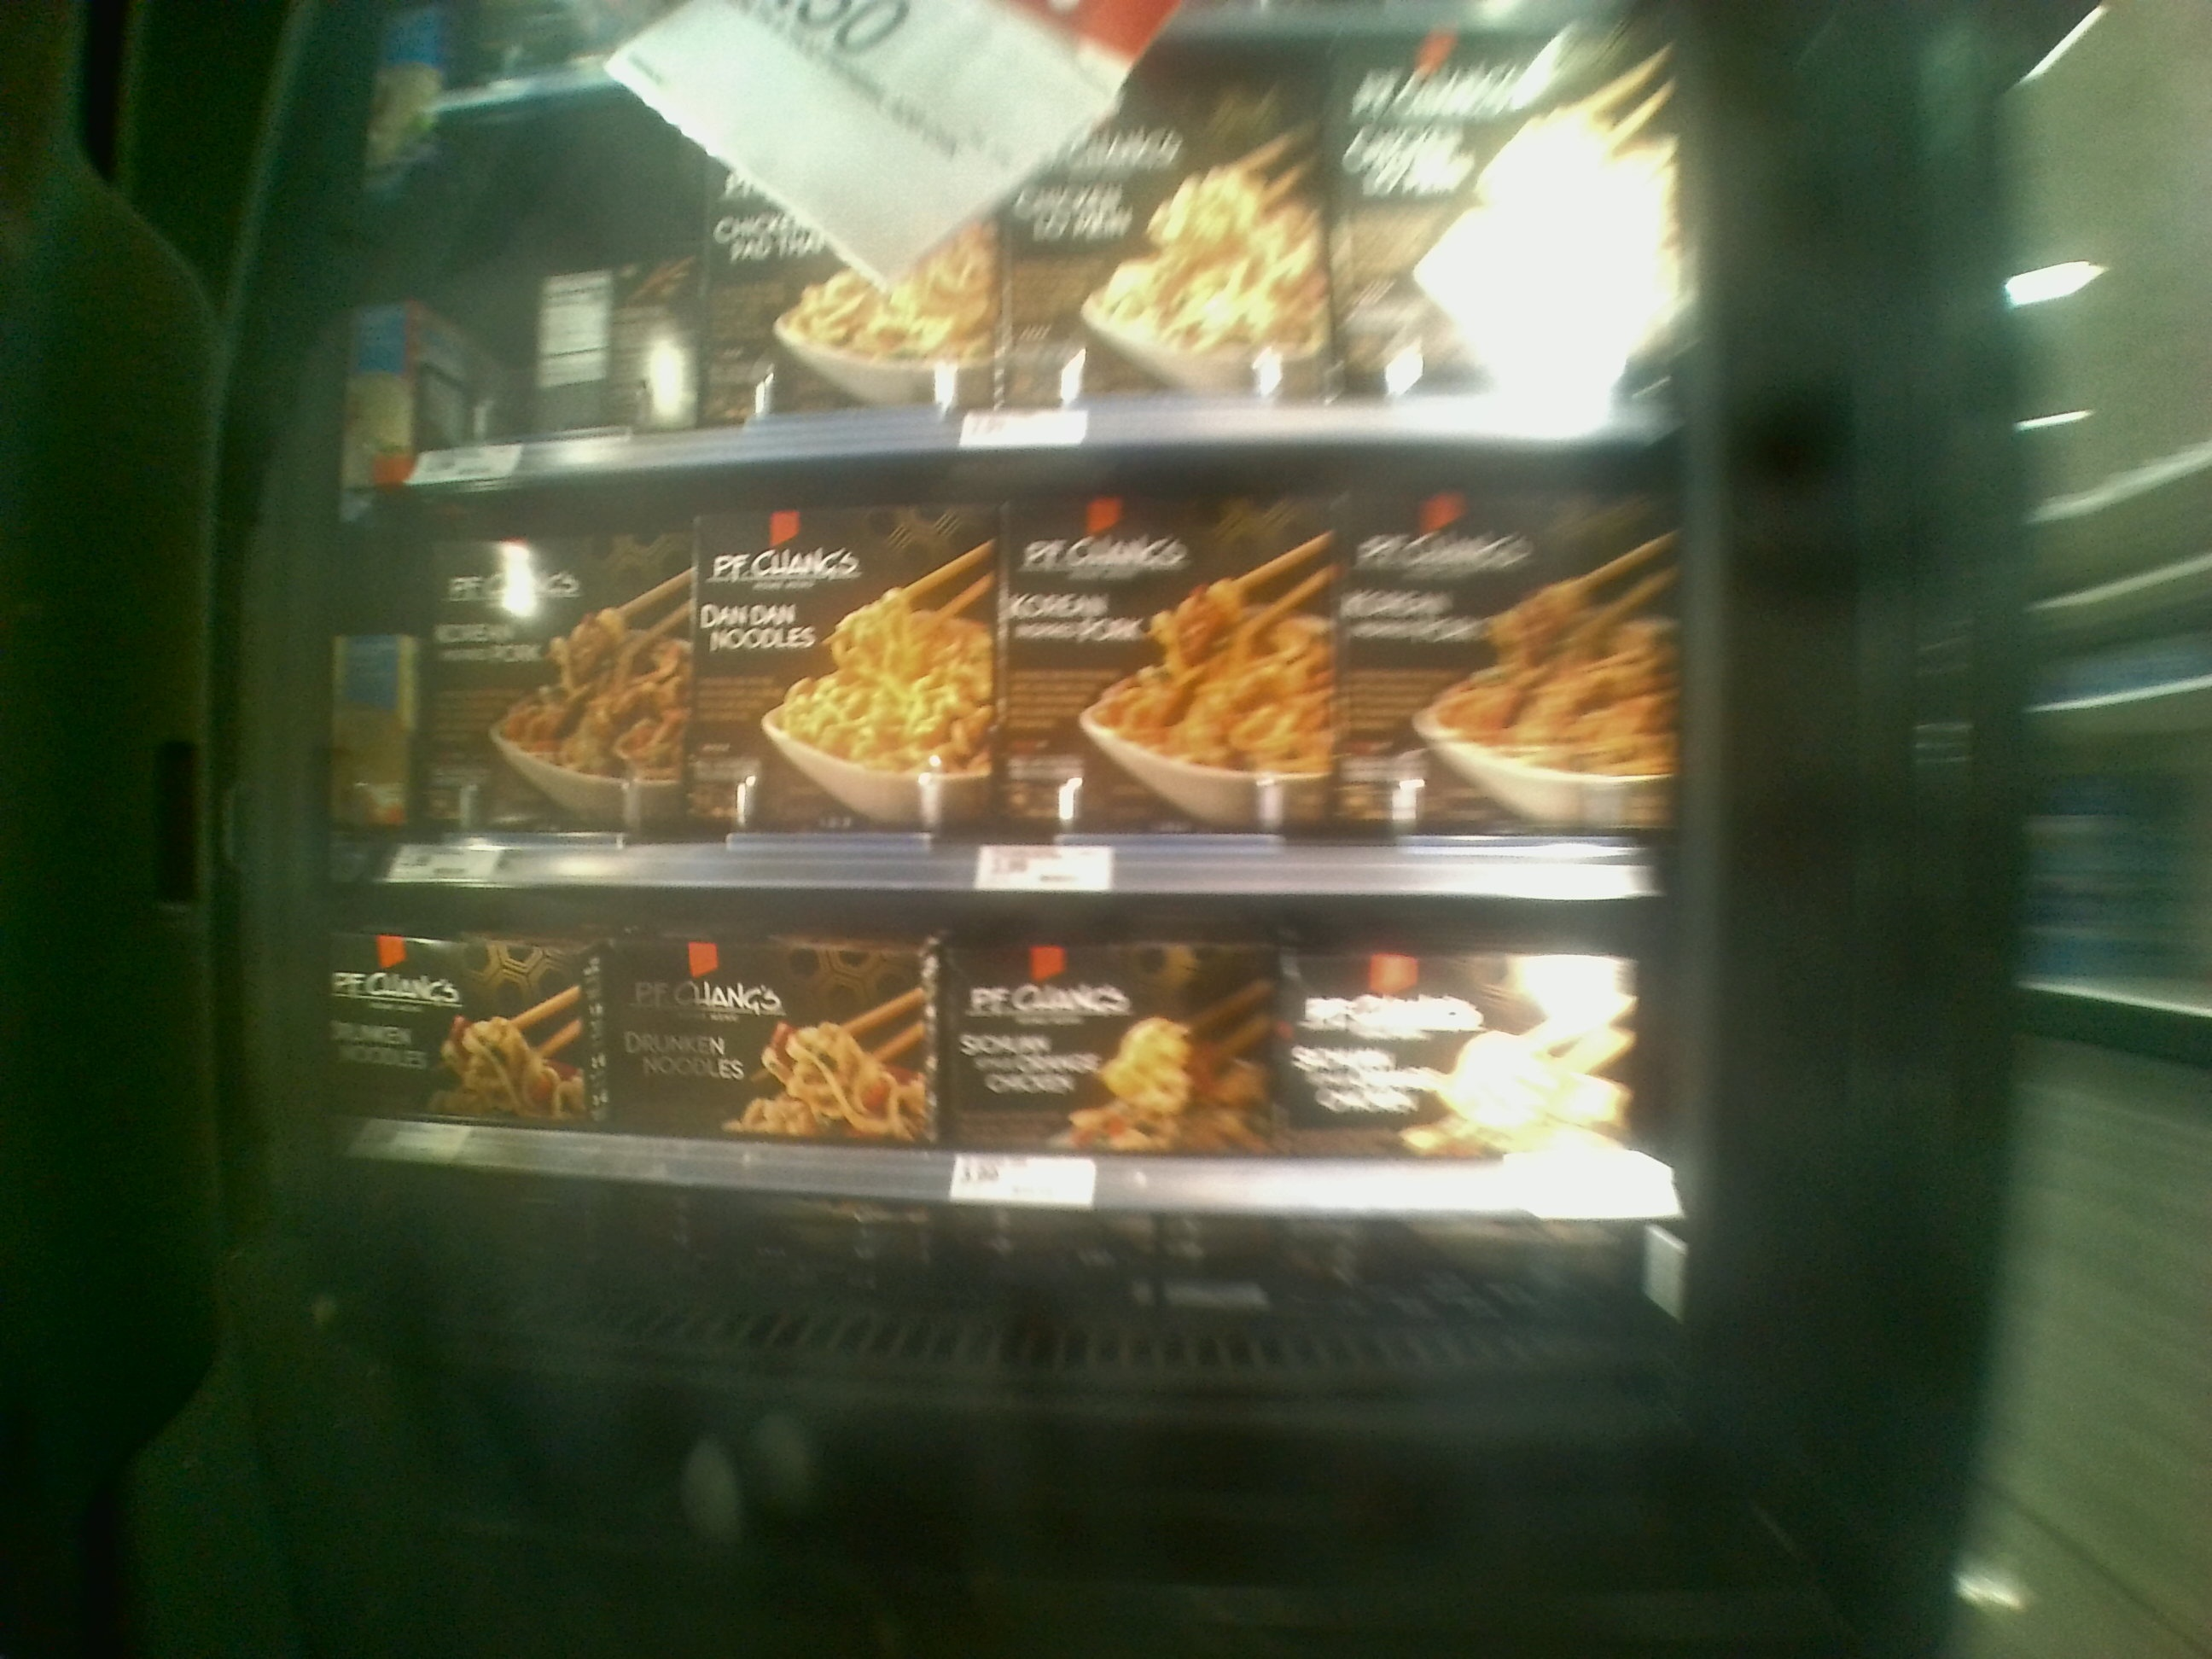shelf: (331, 882, 1679, 1361), (336, 443, 1674, 899)
